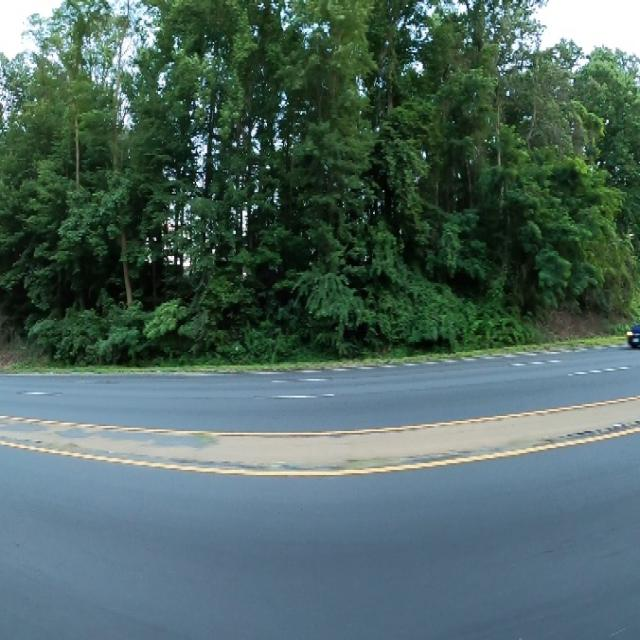cars: (627, 316, 640, 347)
